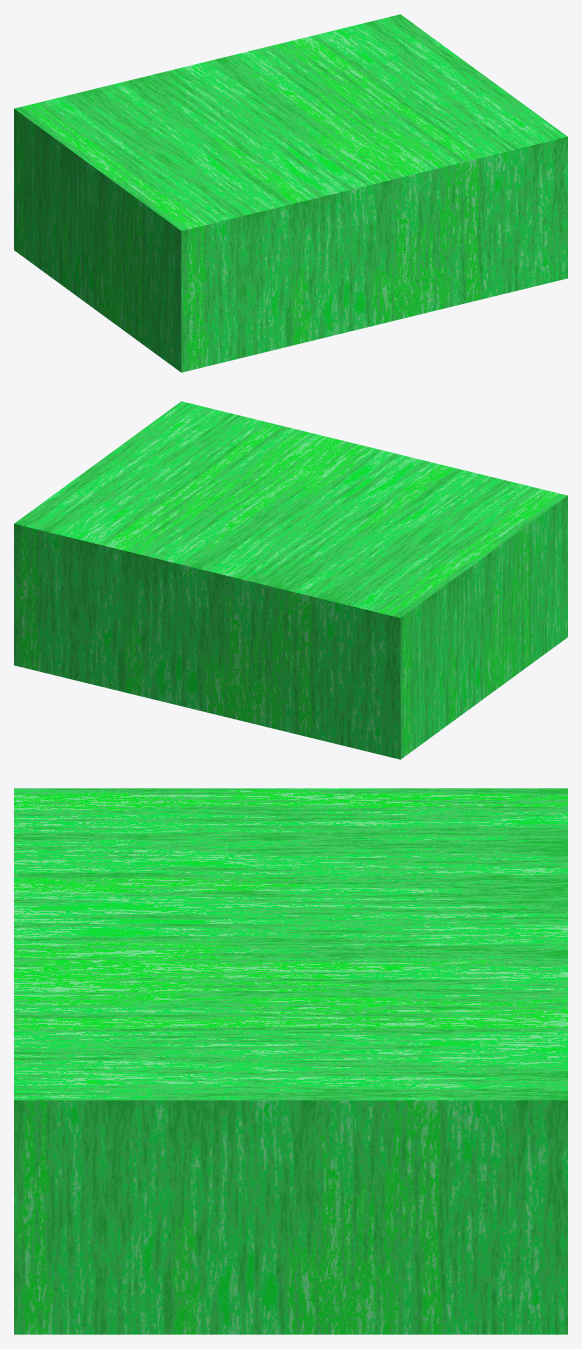
The model's file is dodai.fbx.
3 renders of one model, top to bottom at view 1: azimuth 30°, elevation 25°; view 2: azimuth 150°, elevation 25°; view 3: azimuth 270°, elevation 25°, orthographic. The views are drawn at different scales.
Visible parts, largest first — view 1: dodai; view 2: dodai; view 3: dodai.
Part boxes in pixels (<box>): dodai: <box>14,14,567,372</box>; dodai: <box>14,401,567,759</box>; dodai: <box>14,788,567,1334</box>.
Bounding box in the file's own units: 1000 × 750 × 350.
